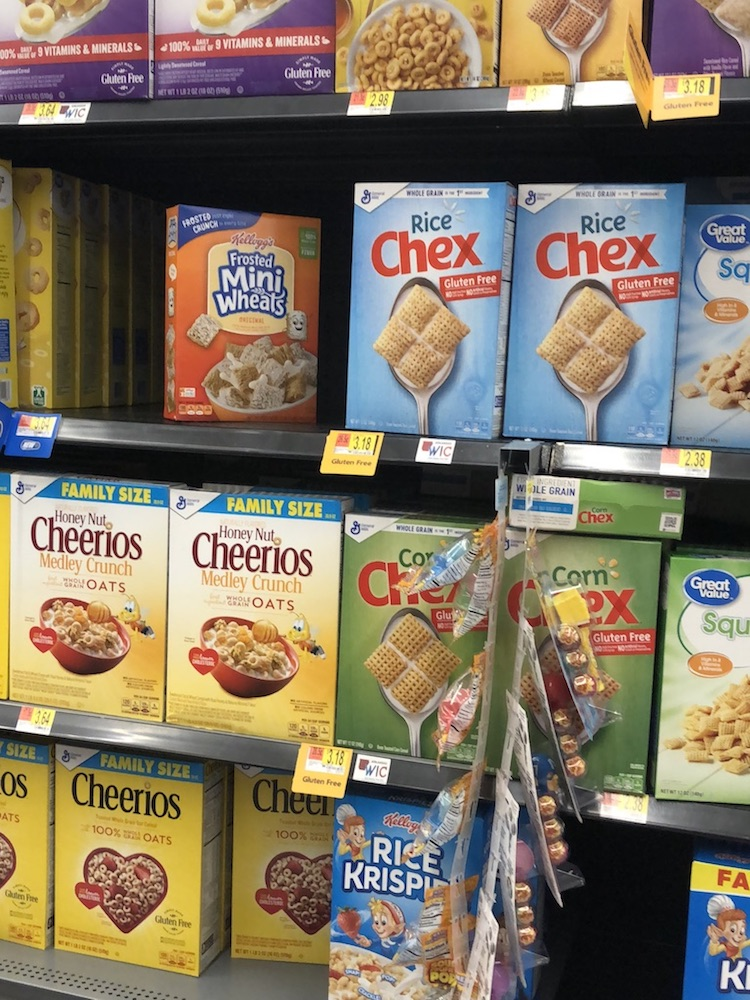Frosted Mini Original -9295869: (164, 211, 317, 424)
